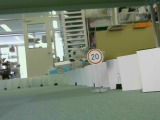speed_20: (84, 47, 105, 66)
